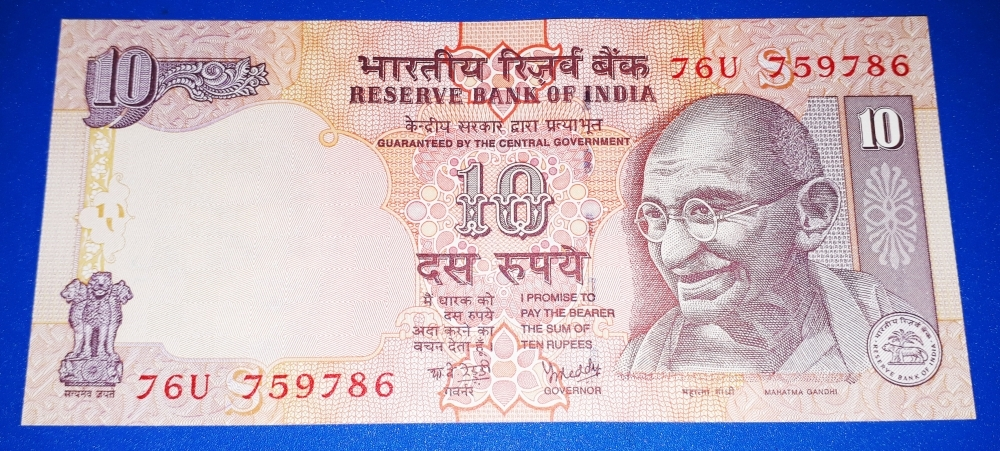ten_rupees_note: (22, 20, 980, 428)
